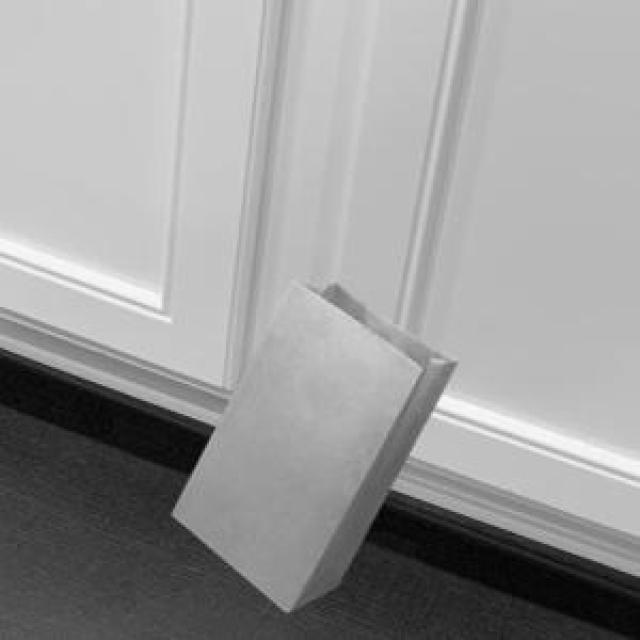paper: (169, 277, 452, 608)
